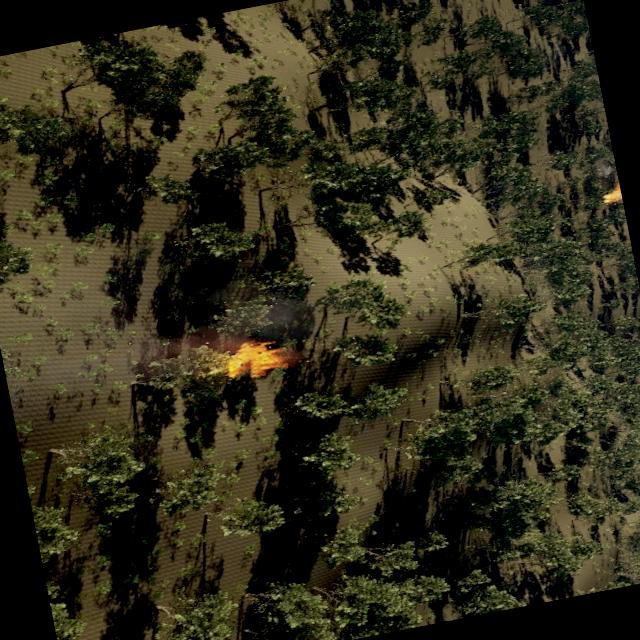fire: (219, 336, 291, 384), (602, 182, 622, 205)
smoke: (214, 278, 314, 350)
